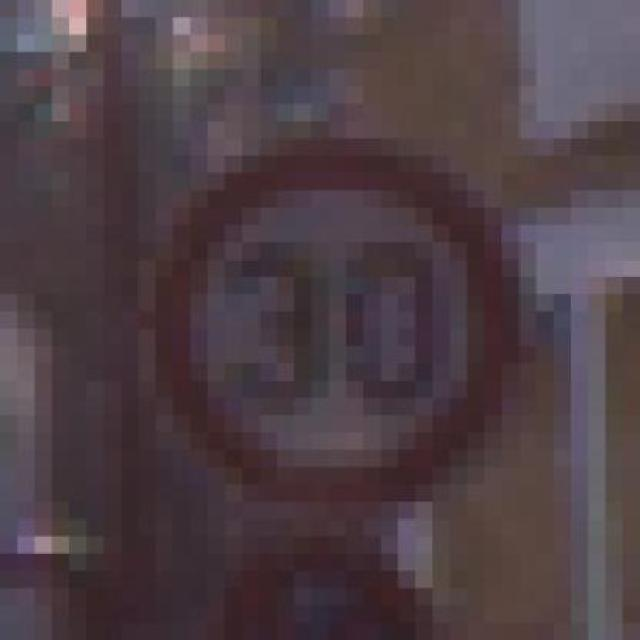Speed Limit 30 KMPh: (104, 121, 519, 519)
